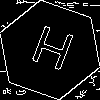H: (25, 25, 77, 80)
